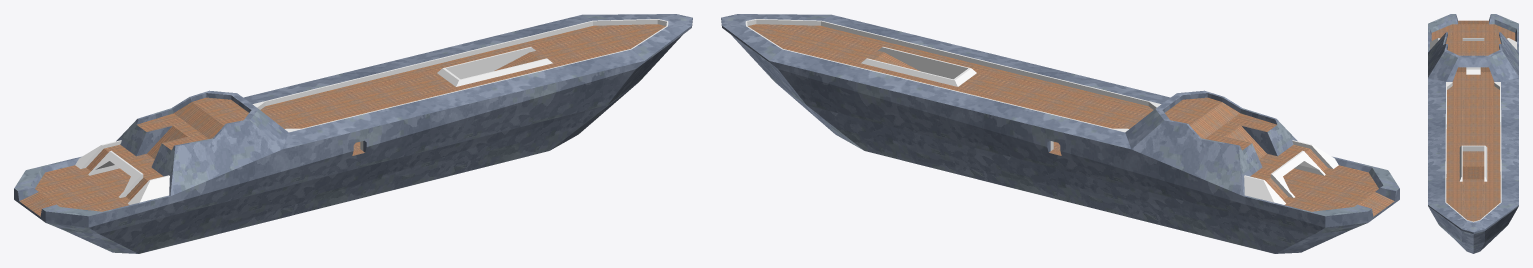
File: yacht.glb
The picture shows the model from 3 angles, left to right: view 1: azimuth 30°, elevation 25°; view 2: azimuth 150°, elevation 25°; view 3: azimuth 270°, elevation 25°; orthographic projection. The views are drawn at different scales.
Visible parts, largest first — view 1: Plane003; view 2: Plane003; view 3: Plane003.
Boxes of the visible parts, x1,y1,x2,y2 form: Plane003: [14, 14, 692, 253]; Plane003: [721, 14, 1399, 253]; Plane003: [1428, 14, 1518, 253].
Bounding box in the file's own units: 152 × 24 × 25.
4 materials, 4 textured.
